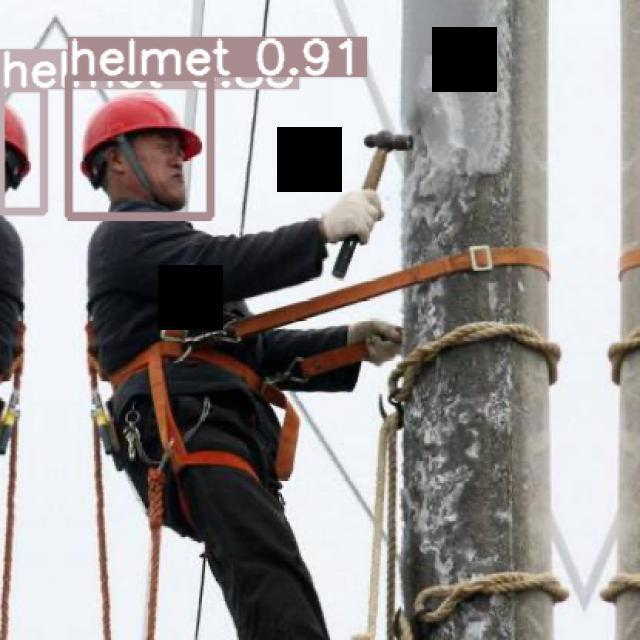red helmet: (79, 93, 209, 171), (5, 100, 37, 172)
